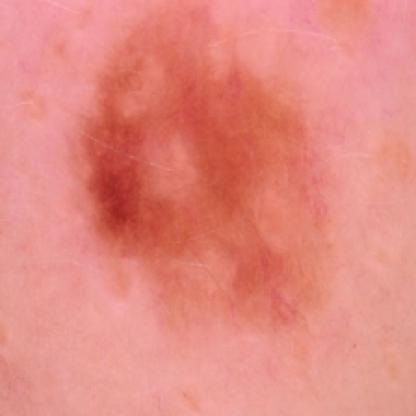benign: (78, 26, 303, 280)
